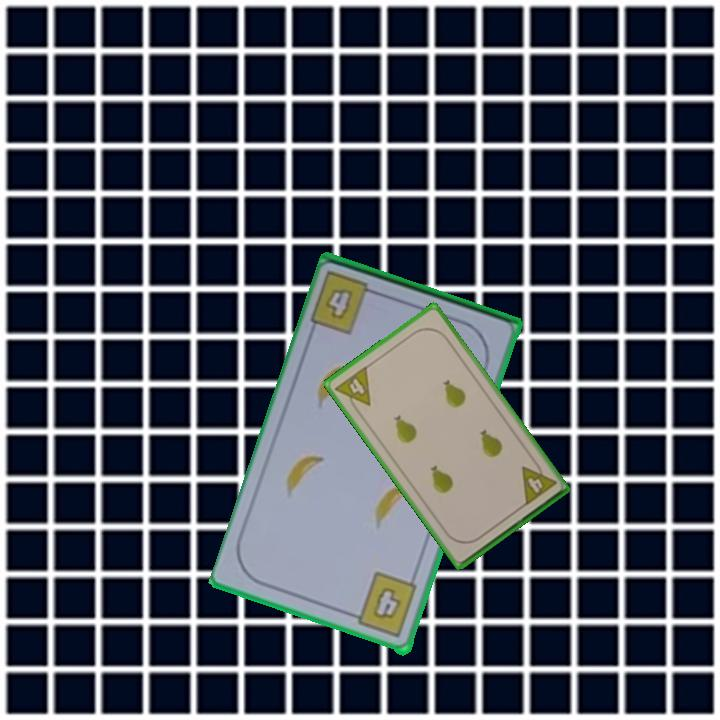4b: (345, 569, 420, 641), (322, 285, 353, 323)
4p: (331, 362, 373, 416), (517, 456, 559, 508)
